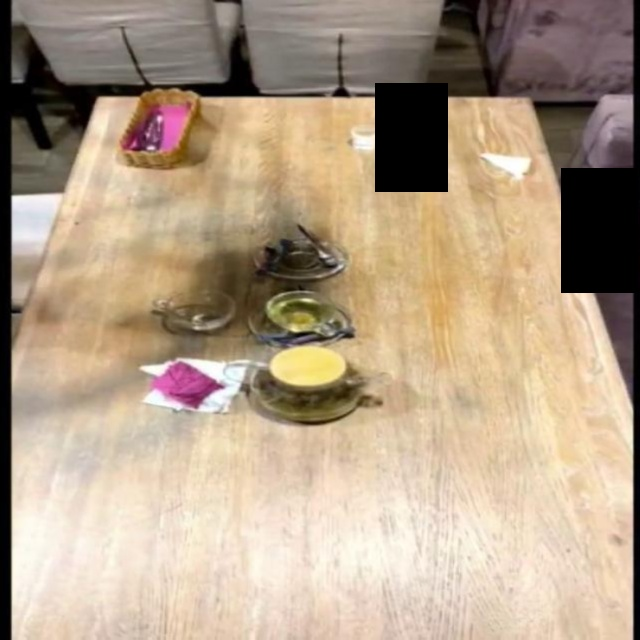tea: (239, 353, 355, 417)
